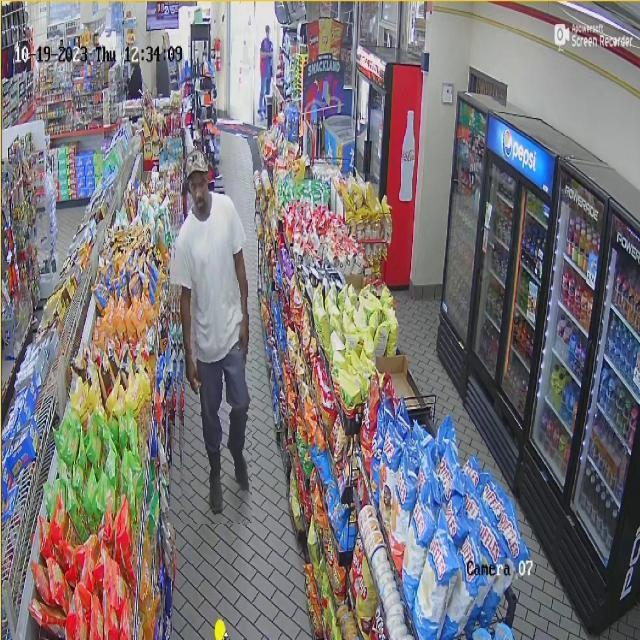Normal: (170, 129, 252, 524)
